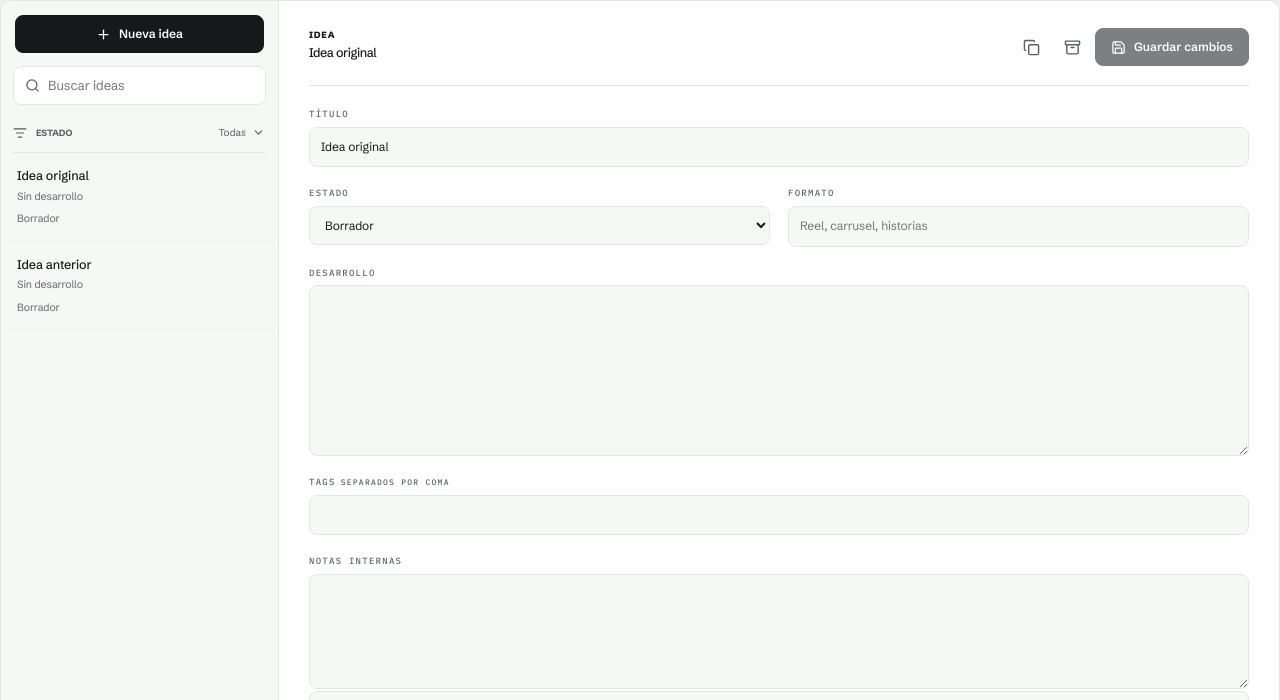
Test: IdeasWorkspace deep links › keeps selection, duplicate, create and archive on the canonical object URL
Click the button "Idea anterior Sin desarrollo Borrador": point(54, 264) [1, 242, 278, 330]
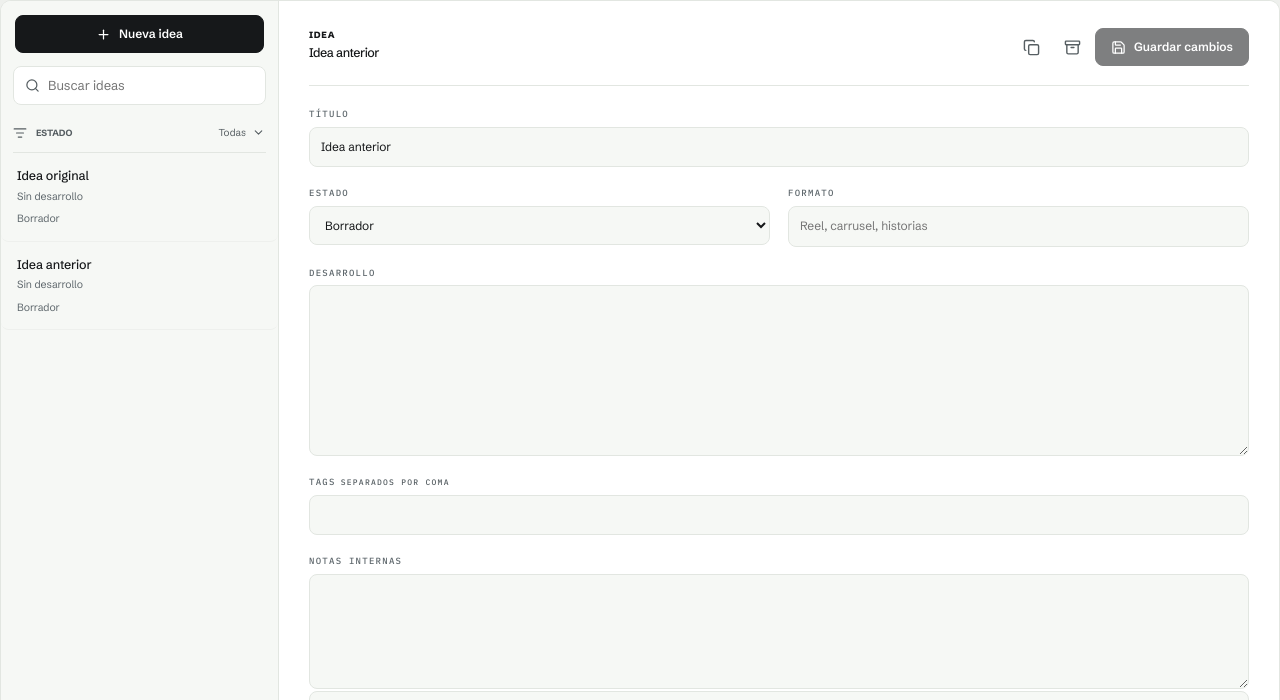
Click the button named "Duplicar idea": point(1031, 47) [1013, 29, 1049, 65]
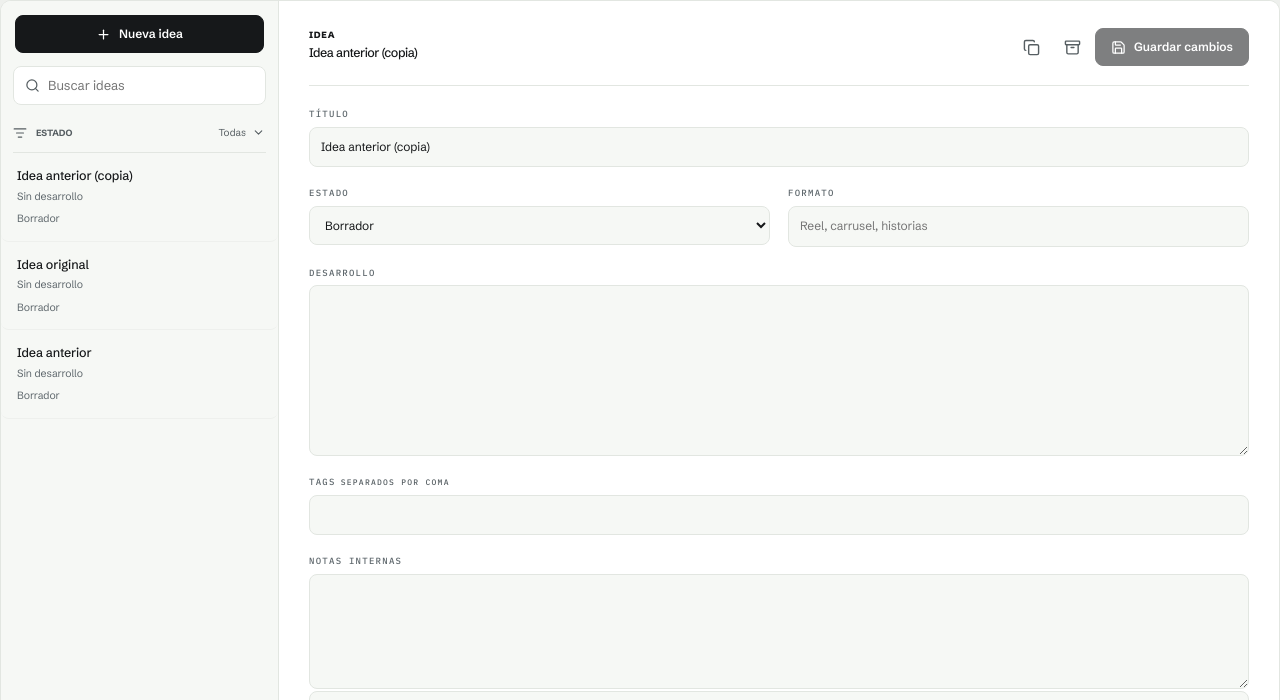
Now the heading "Idea anterior (copia)" is shown, box [309, 46, 417, 60]
Click the button "Nueva idea": point(140, 34) [15, 15, 264, 53]
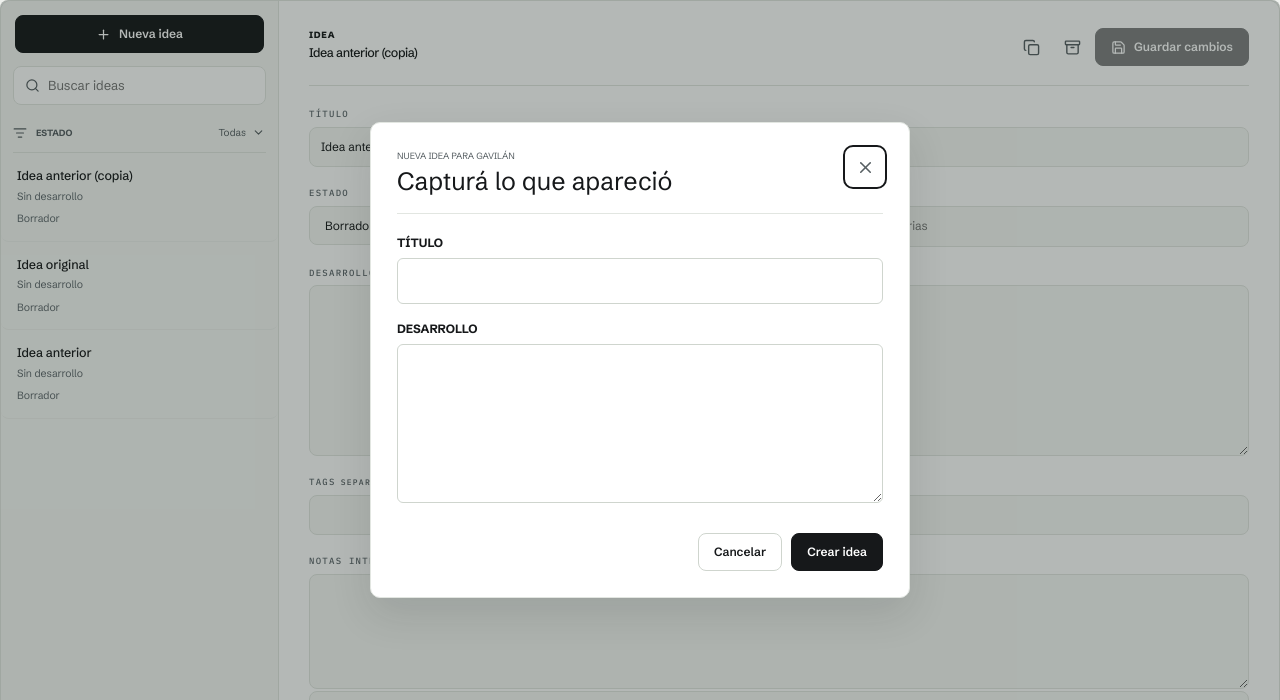
In the field labelled "Título": point(640, 281) [397, 258, 883, 304], type "Serie documental"
In the text box labelled "Desarrollo": point(640, 424) [397, 344, 883, 503], type "Detrás de escena"
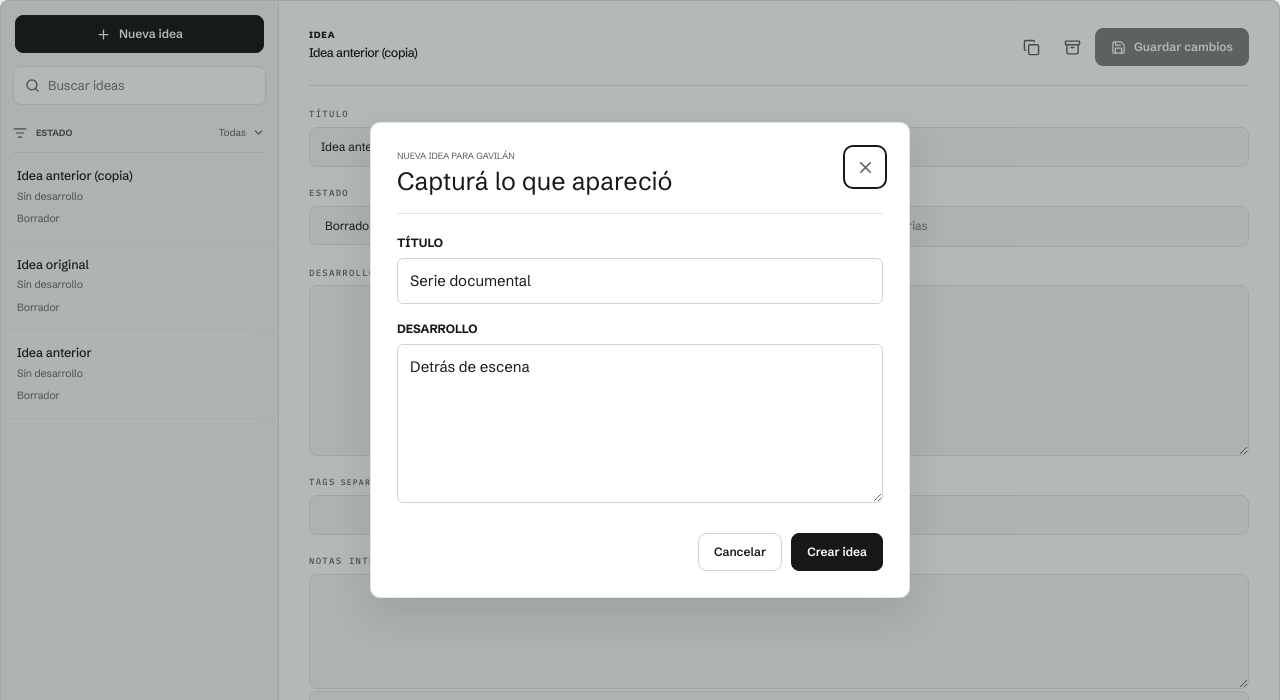
Click the button "Crear idea": point(837, 552) [791, 533, 883, 571]
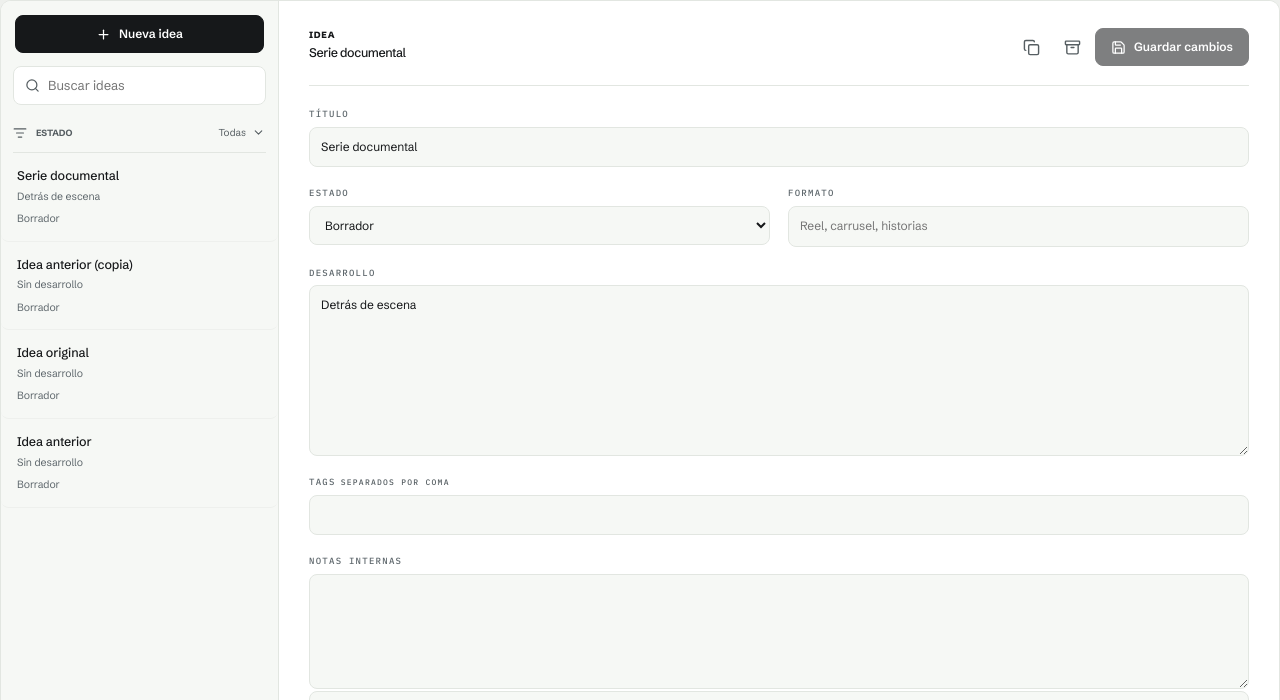
Now the heading "Serie documental" is shown, box [309, 46, 406, 60]
Click the button named "Archivar idea": point(1072, 47) [1054, 29, 1090, 65]
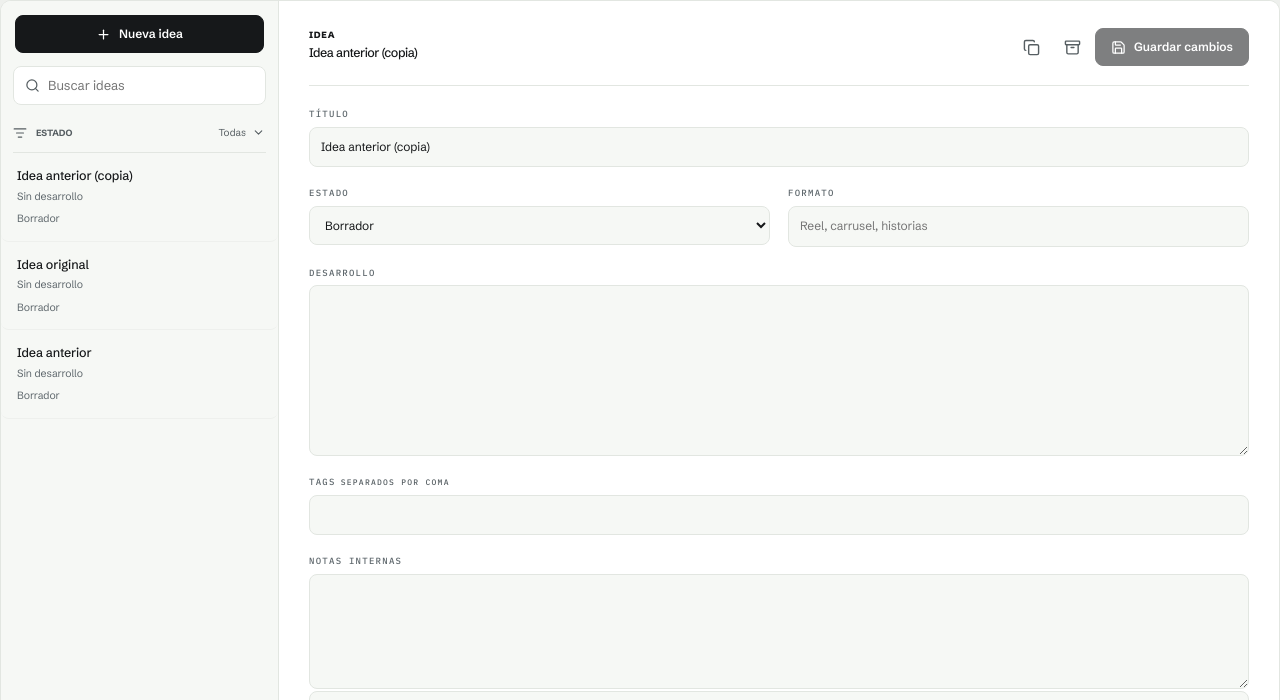
Now the heading "Idea anterior (copia)" is shown, box [309, 46, 417, 60]
